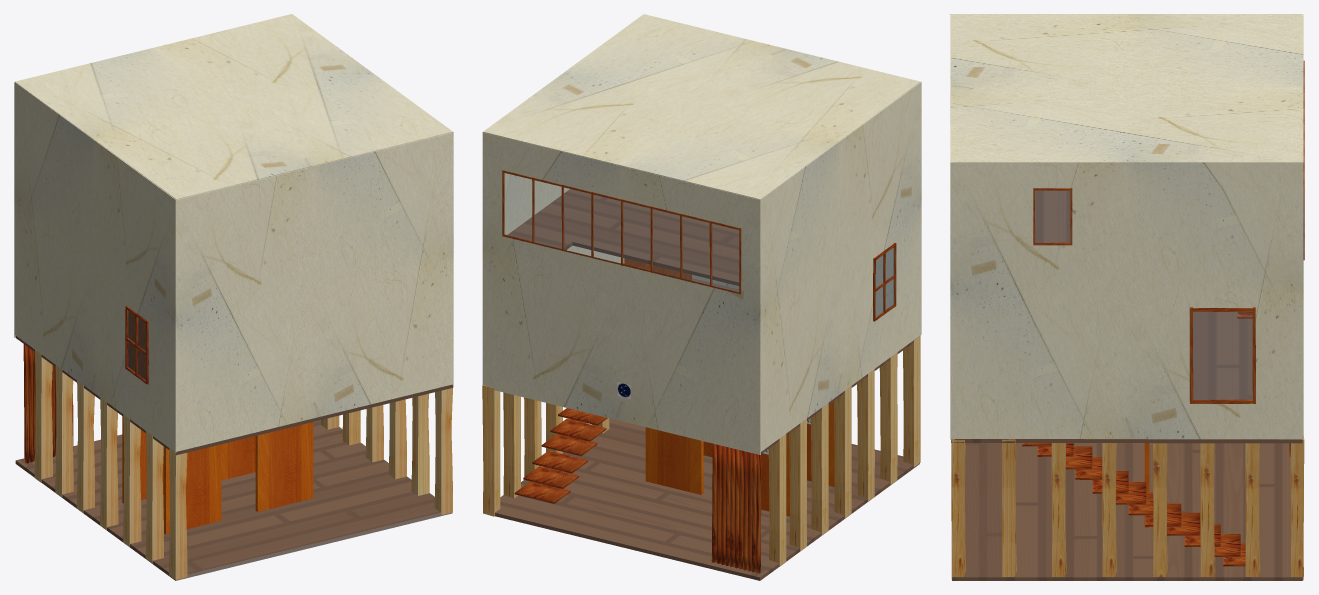
Rendered from 2G_DCL_gltf.gltf.
The picture shows the model from 3 angles, left to right: view 1: azimuth 30°, elevation 25°; view 2: azimuth 150°, elevation 25°; view 3: azimuth 270°, elevation 25°; orthographic projection. The views are drawn at different scales.
Parts seen in each view (by area): view 1: 1.木壁, 6.木材, 3.床, 7.マド枠; view 2: 1.木壁, 6.木材, 3.床, 7.マド枠, 4.木材階段; view 3: 1.木壁, 3.床, 6.木材, 7.マド枠, 4.木材階段.
Boxes of the visible parts, box(x1,y1,x2,y2) form: 1.木壁: box(14, 14, 453, 452); 6.木材: box(23, 310, 452, 579); 3.床: box(15, 336, 453, 580); 7.マド枠: box(125, 305, 148, 384); 1.木壁: box(482, 14, 921, 454); 6.木材: box(482, 258, 920, 573); 3.床: box(495, 189, 920, 580); 7.マド枠: box(502, 170, 896, 321); 4.木材階段: box(514, 408, 607, 503); 1.木壁: box(950, 14, 1303, 439); 3.床: box(951, 190, 1302, 580); 6.木材: box(951, 436, 1304, 580); 7.マド枠: box(1033, 60, 1304, 403); 4.木材階段: box(1022, 311, 1252, 566).
Size of what is drawn, in the model's own units: 15.04 by 19.64 by 14.98.
Materials: 6 (4 with a texture image).
